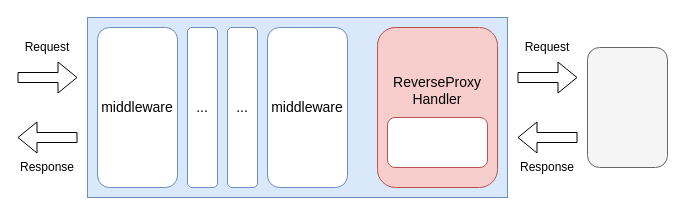
Some shapes in this 685 by 215 pixel diagram are drawn without their labels. The box of each missing label's shape, as (x1, y1, x2, y2) in pixels:
HTTP Client: (386, 116, 488, 168)
Upstream Service: (586, 46, 668, 168)
